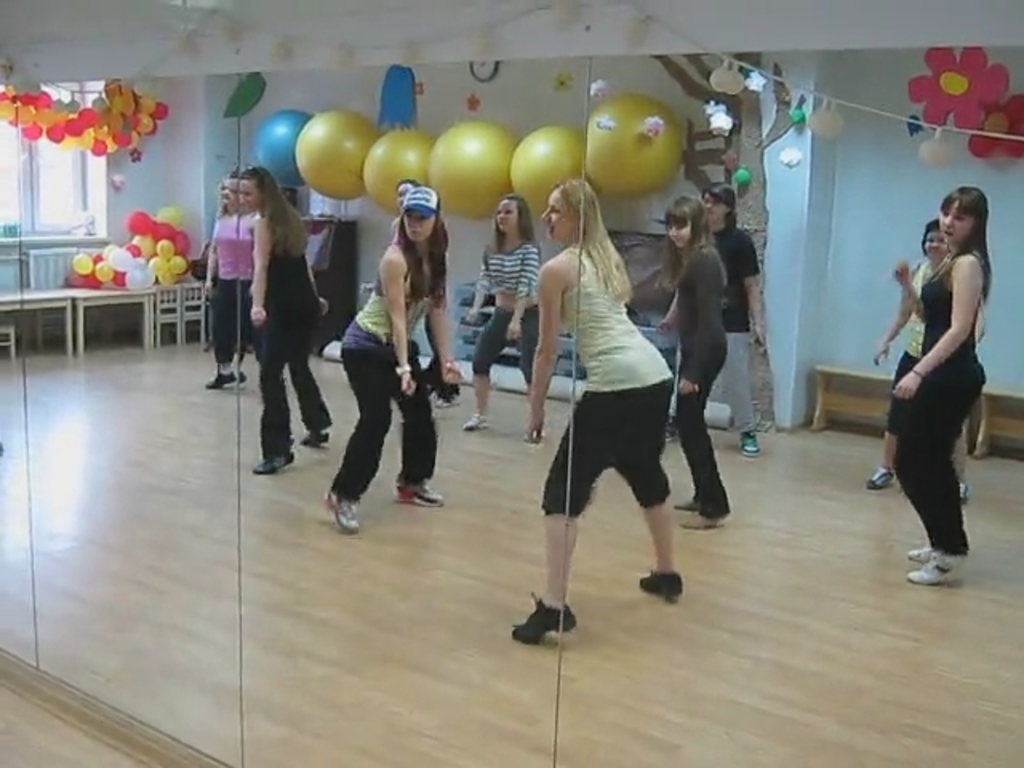Person: (202, 165, 991, 644)
